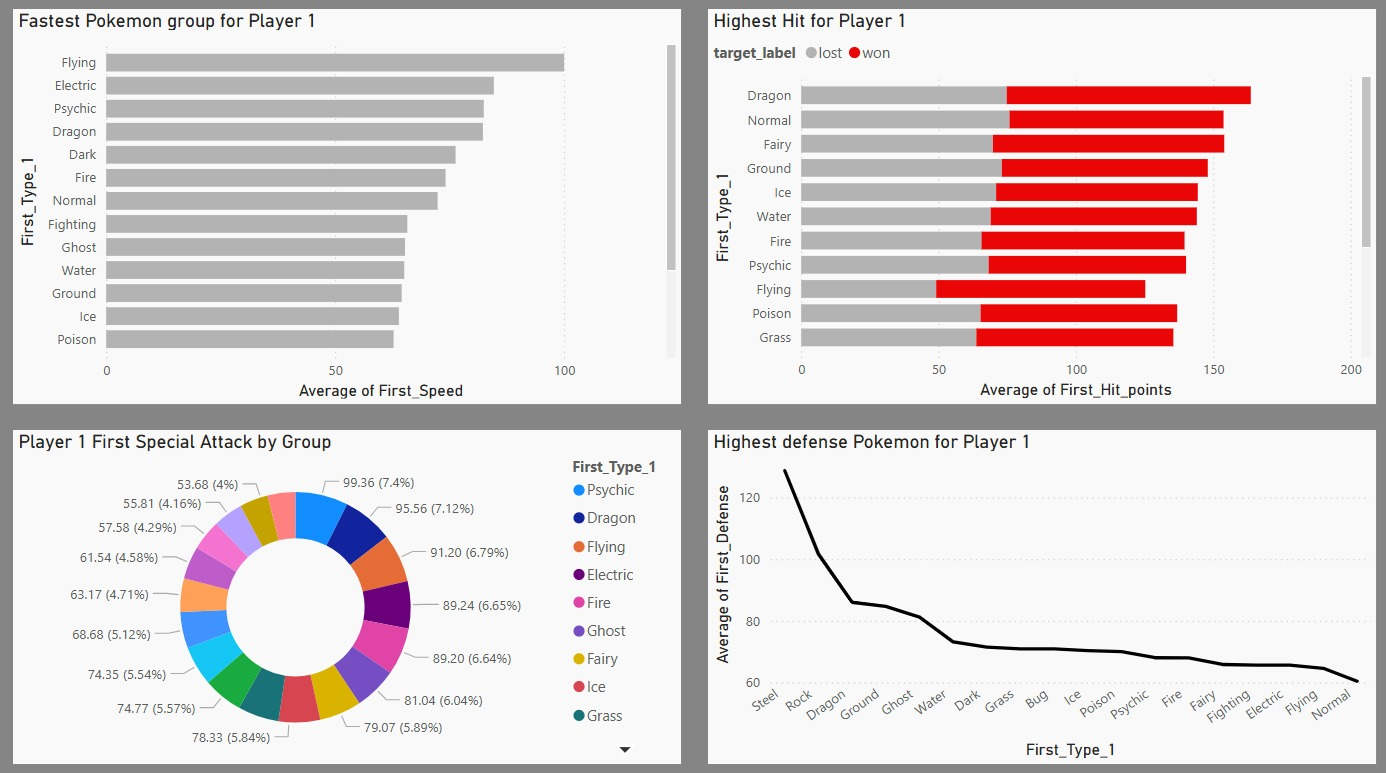

The page's visual inventory and layout, read from the dashboard file:
{"tool":"powerbi","page":{"name":"Player 1 Statistics","canvas":[1280,720],"ordinal":2},"visuals":[{"type":"barChart","title":"Fastest Pokemon group for Player 1","fields":{"Category":["combined_ml.First_Type_1"],"Y":["Avg(combined_ml.First_Speed)"]},"box":[26.6,14.2,602.1,356.5],"z":0},{"type":"barChart","title":"Highest Hit for Player 1","fields":{"Category":["combined_ml.First_Type_1"],"Y":["Avg(combined_ml.First_Hit_points)"],"Series":["combined_ml.target_label"]},"box":[653.5,14.2,602.1,356.5],"z":1},{"type":"donutChart","title":"Player 1 First Special Attack by Group","fields":{"Y":["Avg(combined_ml.First_Special_attack)"],"Category":["combined_ml.First_Type_1"]},"box":[26.6,393.7,602.1,300.6],"z":2},{"type":"lineChart","title":"Highest defense Pokemon for Player 1","fields":{"Category":["combined_ml.First_Type_1"],"Y":["Avg(combined_ml.First_Defense)"]},"box":[653.5,393.7,602.1,300.6],"z":3}]}

Visuals, with their boxes in screenshot pixels (x1, y1, x2, y2), scaled from the page's 1280x720 canvas onto the 1386x773 screenshot:
"Fastest Pokemon group for Player 1" barChart: (29,15,681,398)
"Highest Hit for Player 1" barChart: (708,15,1360,398)
"Player 1 First Special Attack by Group" donutChart: (29,423,681,745)
"Highest defense Pokemon for Player 1" lineChart: (708,423,1360,745)
